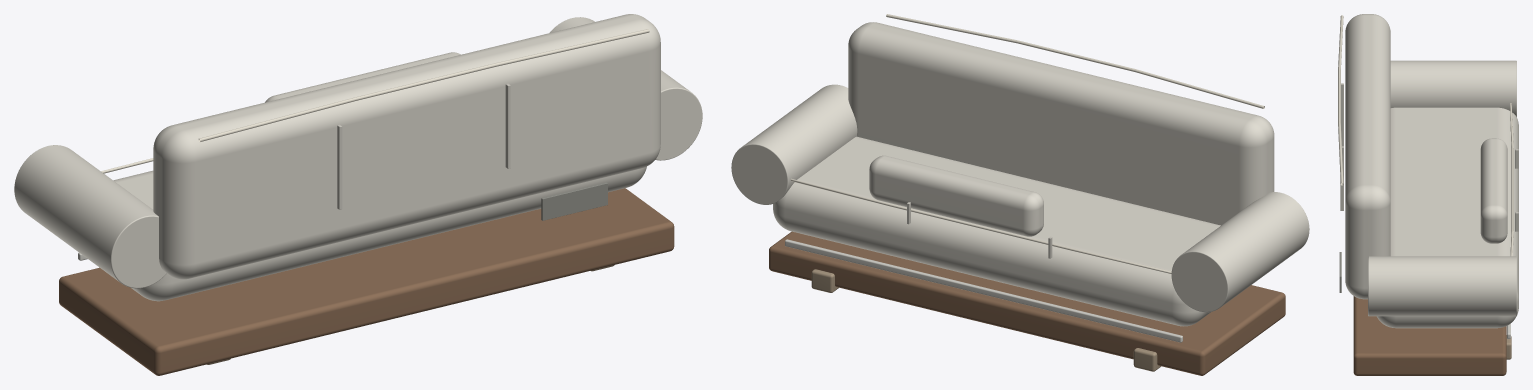
Rendered from room_l2_img2_modular_sofa.glb.
The picture shows the model from 3 angles, left to right: view 1: azimuth 30°, elevation 25°; view 2: azimuth 150°, elevation 25°; view 3: azimuth 270°, elevation 25°; orthographic projection. The views are drawn at different scales.
Parts seen in each view (by area): view 1: sofa_continuous_back_cushion, sofa_recessed_walnut_shadow_plinth, sofa_left_rolled_arm, sofa_one_piece_seat_cushion, sofa_right_rolled_arm, sofa_back_top_soft_welt, sofa_rear_hidden_access_line, sofa_single_integrated_lumbar_cushion; view 2: sofa_continuous_back_cushion, sofa_one_piece_seat_cushion, sofa_recessed_walnut_shadow_plinth, sofa_left_rolled_arm, sofa_right_rolled_arm, sofa_single_integrated_lumbar_cushion, sofa_thin_smoked_chrome_front_shadow_line, sofa_back_top_soft_welt, sofa_seat_cushion_soft_piped_edge, sofa_tapered_oak_foot_-0.8_+0.3, sofa_tapered_oak_foot_+0.8_+0.3; view 3: sofa_one_piece_seat_cushion, sofa_continuous_back_cushion, sofa_right_rolled_arm, sofa_recessed_walnut_shadow_plinth, sofa_left_rolled_arm, sofa_single_integrated_lumbar_cushion, sofa_back_top_soft_welt, sofa_seat_cushion_soft_piped_edge, sofa_subtle_back_channel_-0.36, sofa_subtle_back_channel_+0.36.
Boxes of the visible parts, x1,y1,x2,y2 form: sofa_continuous_back_cushion: (153,14,660,279); sofa_recessed_walnut_shadow_plinth: (59,188,674,375); sofa_left_rolled_arm: (14,145,166,288); sofa_one_piece_seat_cushion: (113,166,646,301); sofa_right_rolled_arm: (549,17,702,160); sofa_back_top_soft_welt: (198,29,649,141); sofa_rear_hidden_access_line: (541,182,607,220); sofa_single_integrated_lumbar_cushion: (265,52,460,102); sofa_continuous_back_cushion: (848,22,1274,225); sofa_one_piece_seat_cushion: (773,136,1220,326); sofa_recessed_walnut_shadow_plinth: (769,231,1285,375); sofa_left_rolled_arm: (1171,192,1309,312); sofa_right_rolled_arm: (731,84,857,204); sofa_single_integrated_lumbar_cushion: (869,155,1043,236); sofa_thin_smoked_chrome_front_shadow_line: (785,239,1182,342); sofa_back_top_soft_welt: (886,14,1264,108); sofa_seat_cushion_soft_piped_edge: (791,178,1171,273); sofa_tapered_oak_foot_-0.8_+0.3: (1133,348,1160,371); sofa_tapered_oak_foot_+0.8_+0.3: (811,269,838,292); sofa_one_piece_seat_cushion: (1377,107,1518,328); sofa_continuous_back_cushion: (1345,14,1390,299); sofa_right_rolled_arm: (1368,256,1516,316); sofa_recessed_walnut_shadow_plinth: (1353,296,1506,375); sofa_left_rolled_arm: (1390,60,1516,116); sofa_single_integrated_lumbar_cushion: (1480,138,1507,243); sofa_back_top_soft_welt: (1338,15,1343,185); sofa_seat_cushion_soft_piped_edge: (1510,103,1513,256); sofa_subtle_back_channel_-0.36: (1341,83,1343,146); sofa_subtle_back_channel_+0.36: (1340,146,1343,210).
Bounding box in the file's own units: 2.53 × 1.01 × 0.875.
